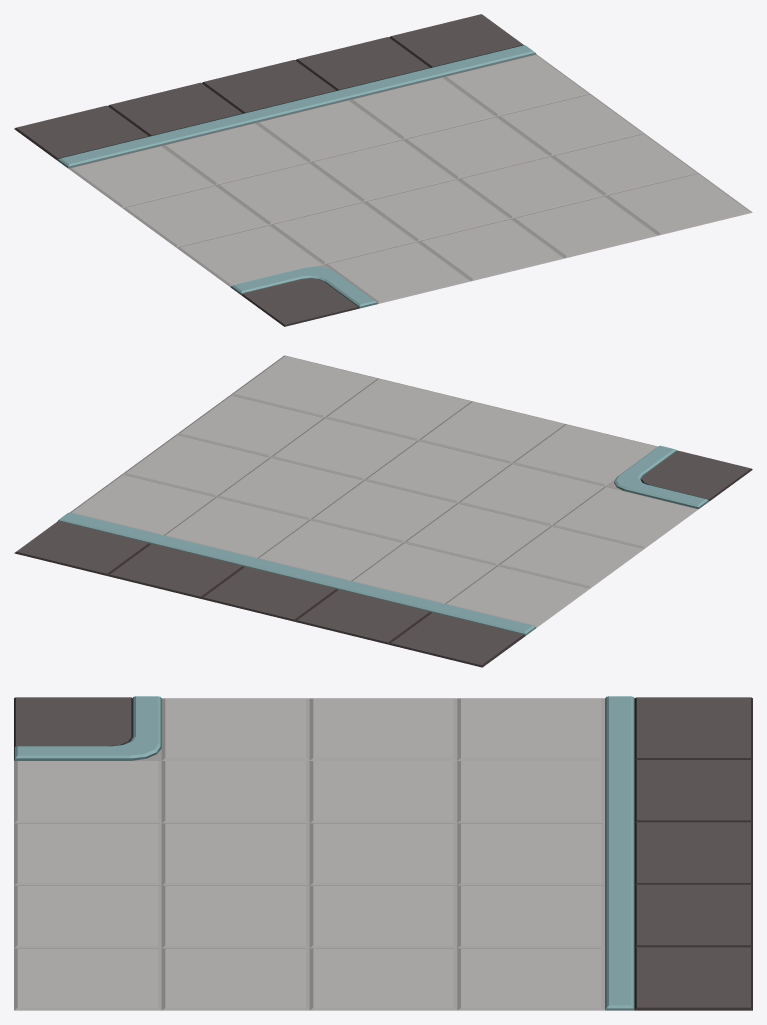
The model's file is HalfForkLeft_0.glb.
The picture shows the model from 3 angles, top to bottom: view 1: azimuth 30°, elevation 25°; view 2: azimuth 150°, elevation 25°; view 3: azimuth 270°, elevation 25°; orthographic projection. The views are drawn at different scales.
Visible parts, largest first — view 1: HalfFork_0; view 2: HalfFork_0; view 3: HalfFork_0.
Boxes of the visible parts, <box> form: HalfFork_0: <box>14,14,752,326</box>; HalfFork_0: <box>14,355,752,667</box>; HalfFork_0: <box>14,696,752,1010</box>.
Bounding box in the file's own units: 16 × 0.0884 × 16.
Materials: 1 (1 with a texture image).
